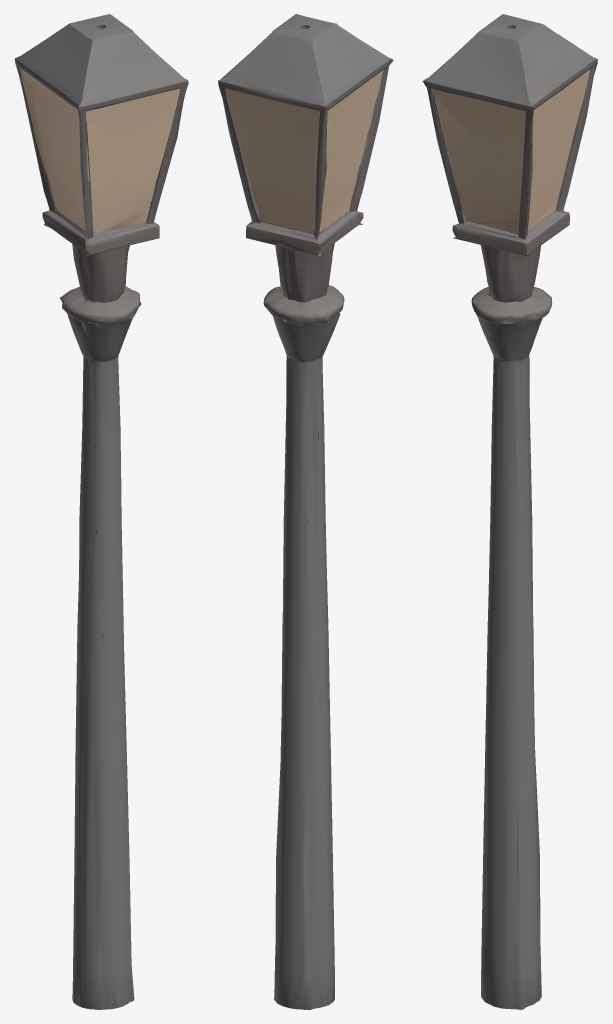
The model's file is 54-street-lamp.glb.
3 views of the same model, side by side, from view 1: azimuth 30°, elevation 25°; view 2: azimuth 150°, elevation 25°; view 3: azimuth 330°, elevation 25° (orthographic).
Parts seen in each view (by area): view 1: geometry_0; view 2: geometry_0; view 3: geometry_0.
Part boxes in pixels (x1,y1,x2,y2): geometry_0: [14, 14, 188, 1009]; geometry_0: [217, 14, 393, 1009]; geometry_0: [422, 14, 598, 1009].
Size of the model in its own units: 0.1138 by 0.9512 by 0.1167.
1 material, 1 textured.
